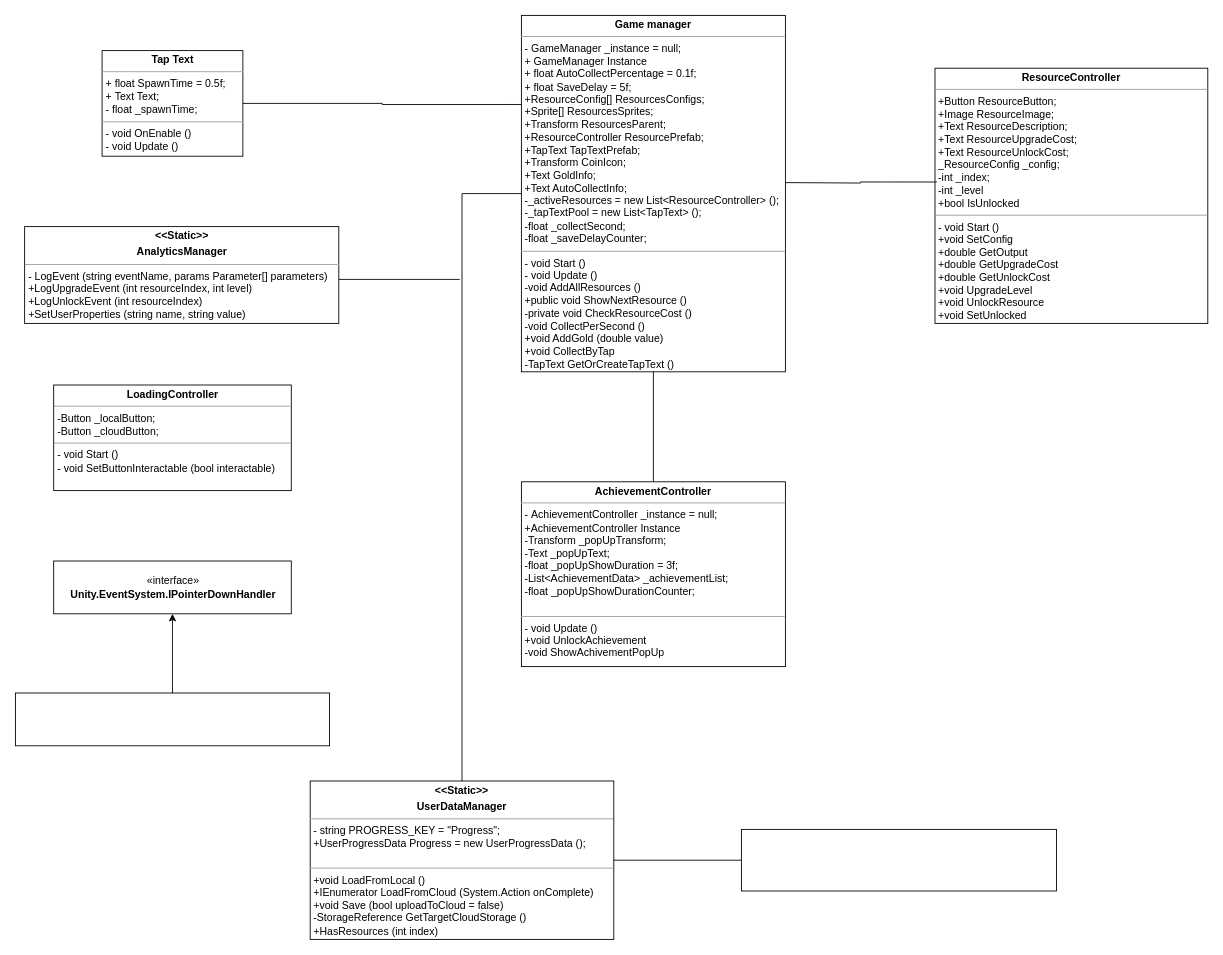
Some shapes in this 1223 by 955 pixel diagram are drawn without their labels. Each missing label, with the centre of its shape:
TapArea +OnPointerDown (PointerEventData eventData): pixel 172 719
UserProgresData +Gold = 0; +ResourcesLevels = new List<int> ();: pixel 898 860
